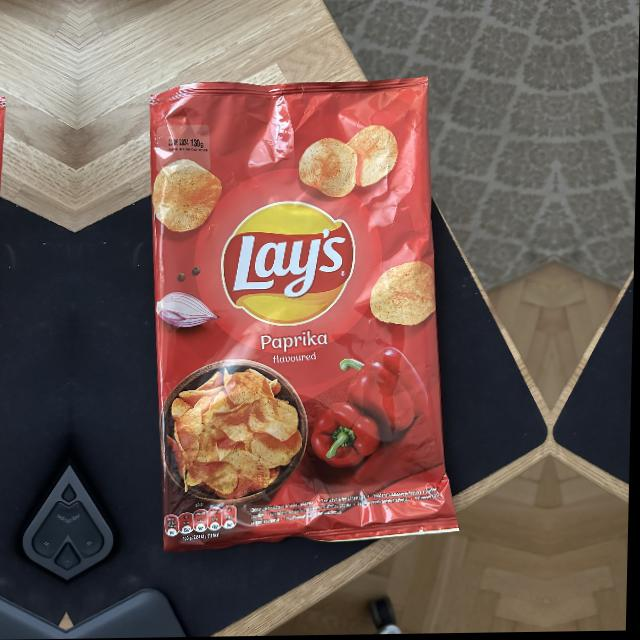lays: (223, 203, 358, 328)
